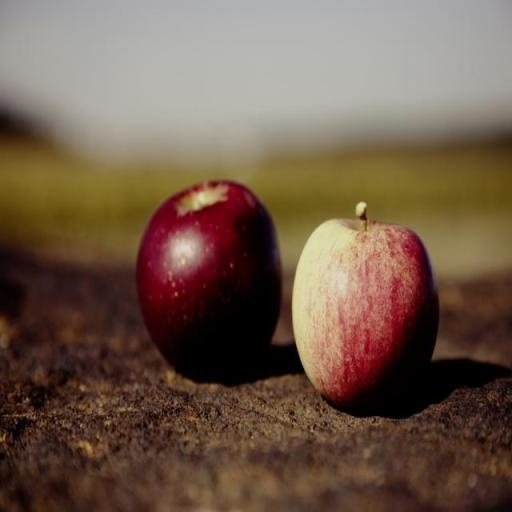fruit: (292, 204, 438, 409), (137, 181, 281, 380)
